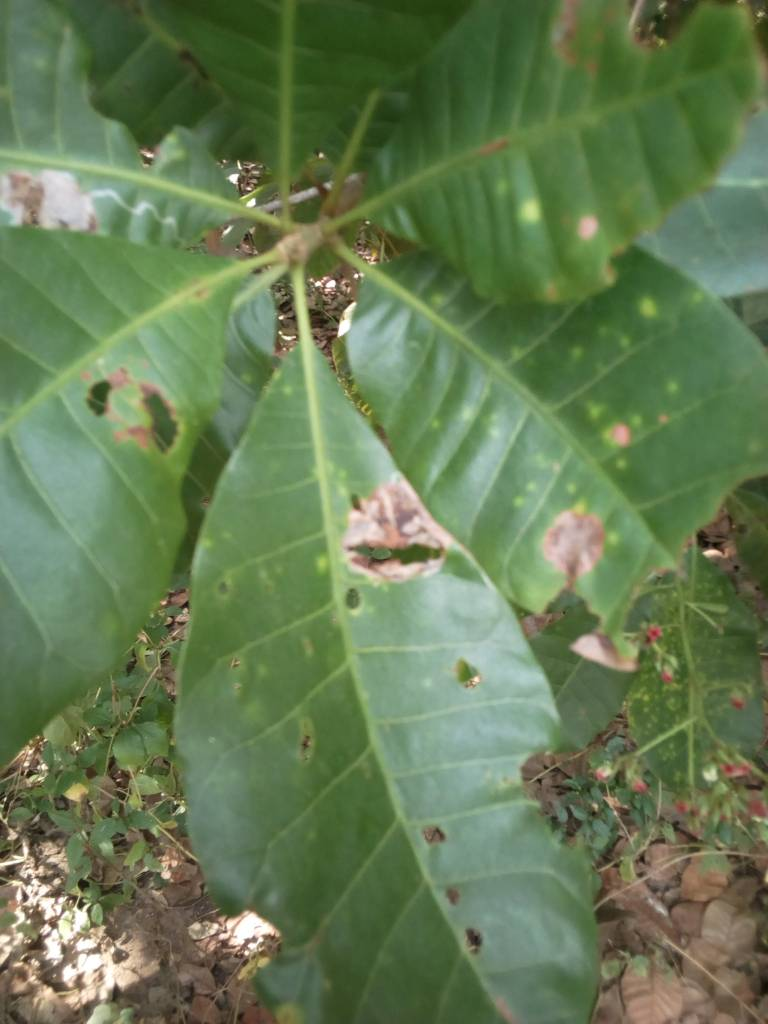Anoplonemis curvipes: (174, 347, 613, 1019), (1, 219, 268, 755)
